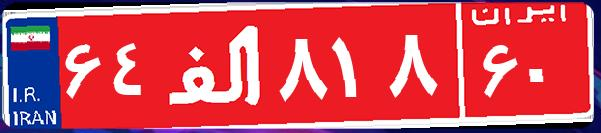0: (525, 38, 570, 115)
1: (330, 28, 385, 110)
4: (110, 28, 158, 105)
6: (57, 26, 110, 107), (475, 38, 525, 113)
8: (385, 28, 445, 110), (273, 28, 330, 110)
الف: (158, 15, 273, 115)
